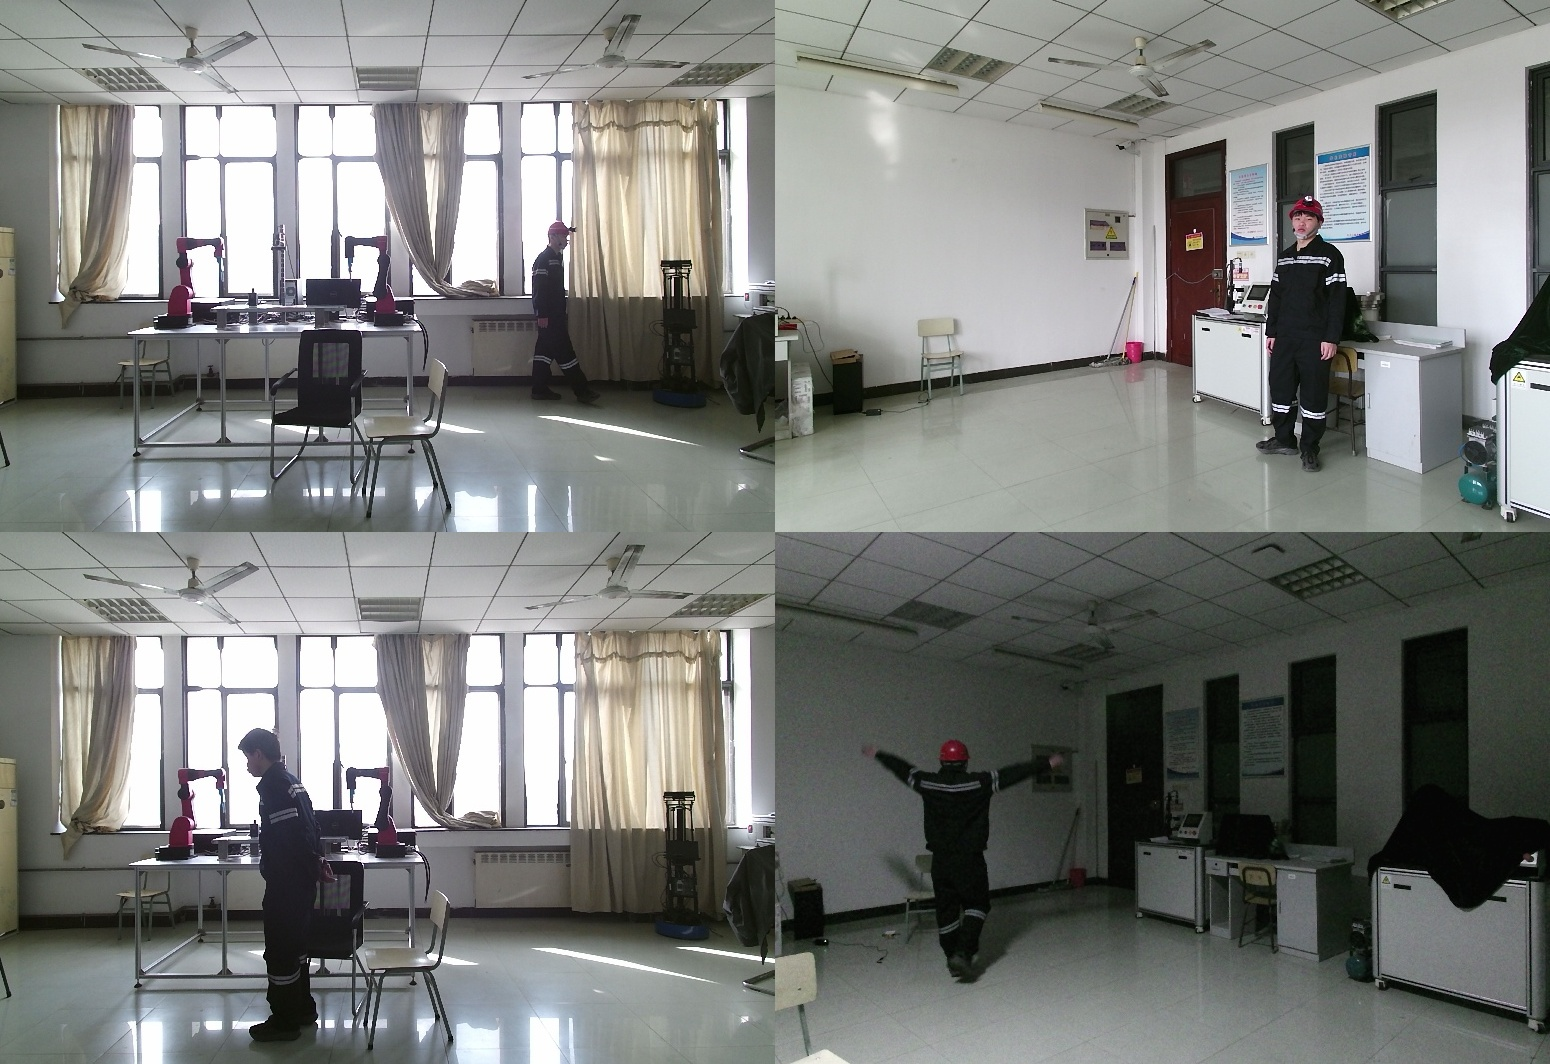person: (857, 741, 1069, 987), (238, 728, 336, 1039), (1264, 195, 1356, 470), (534, 224, 602, 412)
